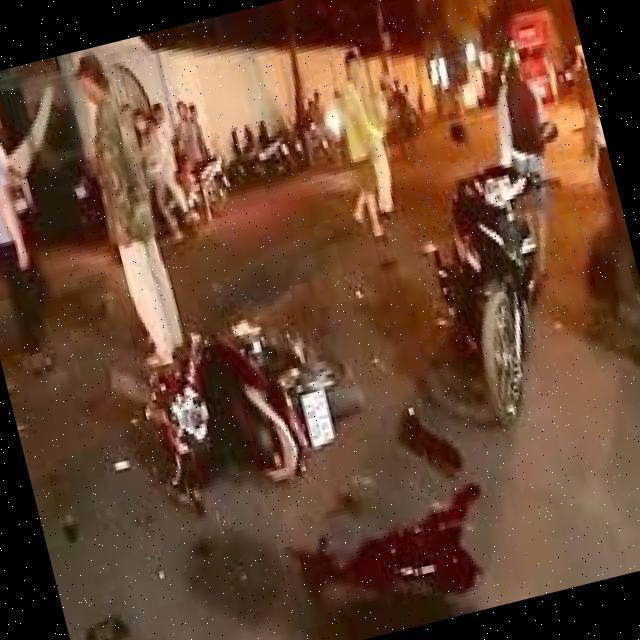accident: (103, 251, 405, 560)
